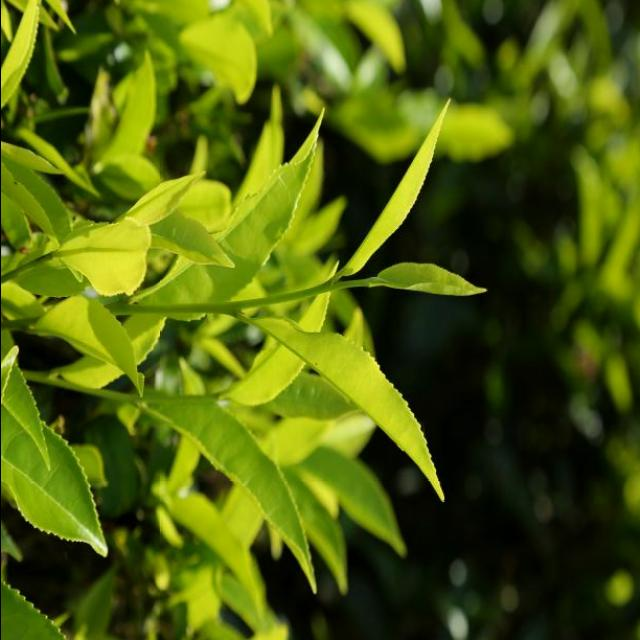Stem: (325, 281, 337, 290)
